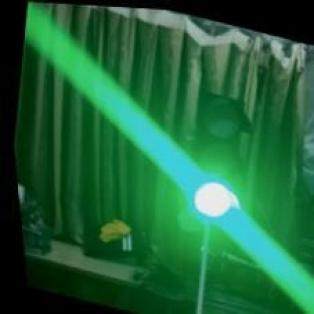Semaforo Verde: (173, 88, 259, 227)
